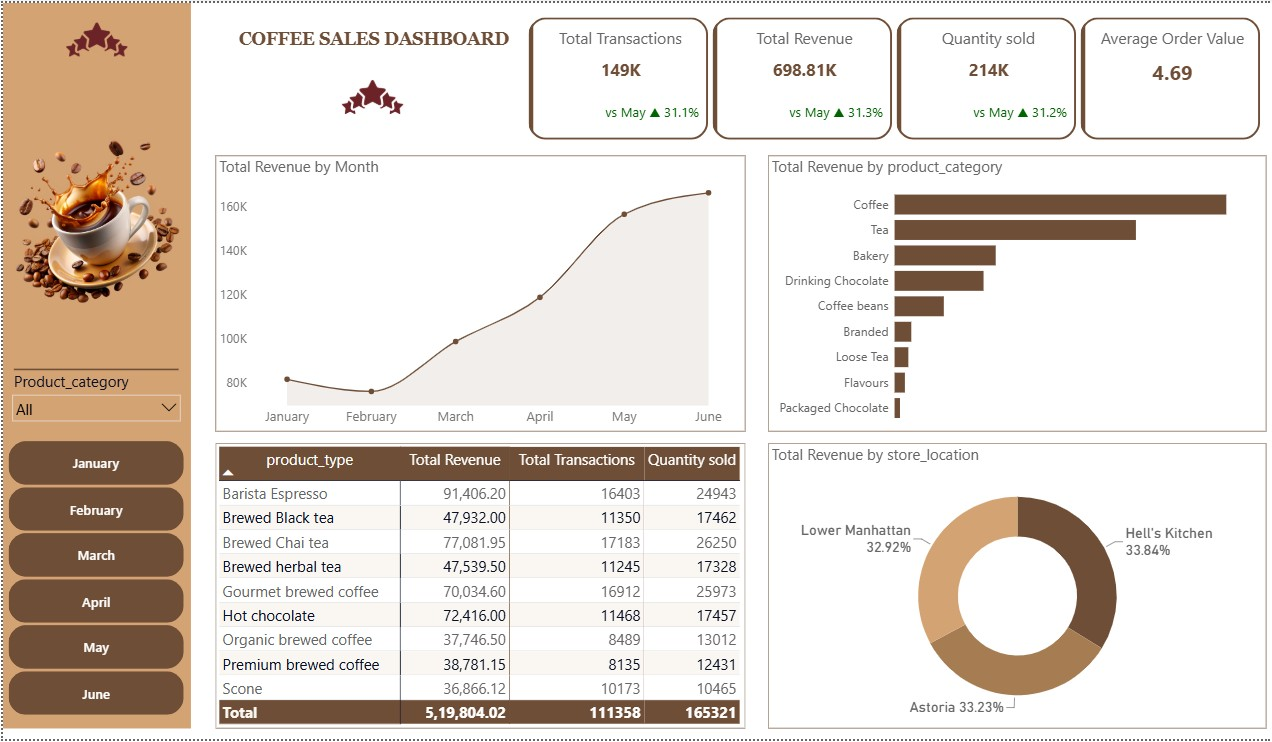

This screenshot's page, from the dashboard's own definition file:
{"tool":"powerbi","page":{"name":"Overview","canvas":[1950,1120],"ordinal":1},"visuals":[{"type":"cardVisual","fields":{"Data":["_Measures.Total Transactions","_Measures.Total Revenue","_Measures.Quantity sold","_Measures.Average Order Value"]},"box":[796,18,1126,196],"z":0},{"type":"lineChart","fields":{"Y":["_Measures.Total Revenue"],"Category":["Calendar.Month"]},"box":[324,232,806,420],"z":1000},{"type":"donutChart","fields":{"Y":["_Measures.Total Revenue"],"Category":["Dim_store.store_location"]},"box":[1164,670,758,434],"z":2000},{"type":"clusteredBarChart","fields":{"Y":["_Measures.Total Revenue"],"Category":["Dim_Products.product_category"]},"box":[1164,232,758,420],"z":3000},{"type":"shape","box":[0,0,286,1104],"z":4000},{"type":"pivotTable","fields":{"Rows":["Dim_Products.product_type"],"Values":["_Measures.Total Revenue","_Measures.Total Transactions","_Measures.Quantity sold"]},"box":[324,670,806,434],"z":5000},{"type":"textbox","box":[354,34,424,54],"z":6000},{"type":"image","box":[350,88,424,110],"z":7000},{"type":"slicer","fields":{"Values":["Dim_Products.product_category"]},"box":[4,552,276,110],"z":9000},{"type":"advancedSlicerVisual","fields":{"Values":["Calendar.Month"]},"box":[4,662,276,428],"z":10000},{"type":"image","box":[0,0,286,110],"z":11000},{"type":"image","box":[4,116,276,436],"z":11001}]}

Visuals, with their boxes in screenshot pixels (x1, y1, x2, y2), scaled from the page's 1950x1120 canvas onto the 1272x742 screenshot:
cardVisual - _Measures.Total Transactions x _Measures.Total Revenue: detection(519, 12, 1254, 142)
lineChart - _Measures.Total Revenue x Calendar.Month: detection(211, 154, 737, 432)
donutChart - _Measures.Total Revenue x Dim_store.store_location: detection(759, 444, 1254, 731)
clusteredBarChart - _Measures.Total Revenue x Dim_Products.product_category: detection(759, 154, 1254, 432)
shape: detection(0, 0, 187, 731)
pivotTable - Dim_Products.product_type x _Measures.Total Revenue: detection(211, 444, 737, 731)
textbox: detection(231, 23, 507, 58)
image: detection(228, 58, 505, 131)
slicer - Dim_Products.product_category: detection(3, 366, 183, 439)
advancedSlicerVisual - Calendar.Month: detection(3, 439, 183, 722)
image: detection(0, 0, 187, 73)
image: detection(3, 77, 183, 366)
